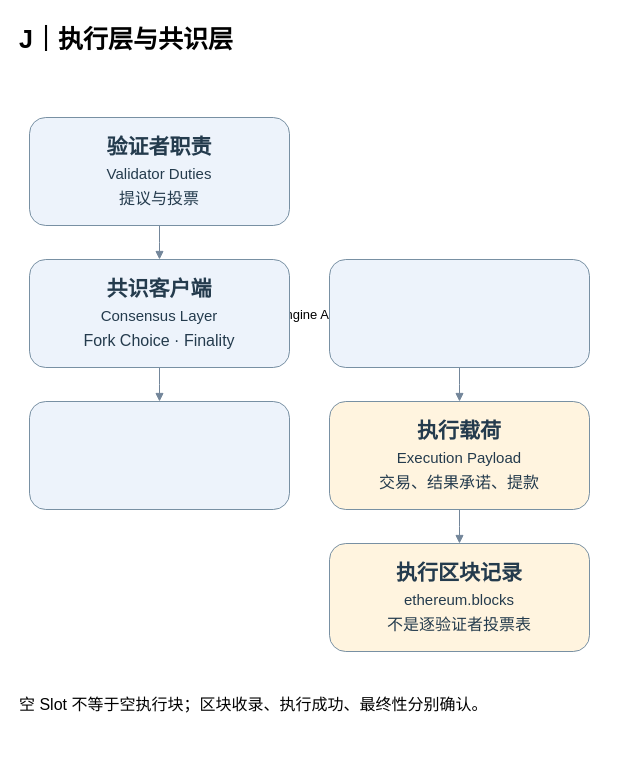
This 618x775 diagram has some shape labels left out. The shapes that lost their labels are listed below. From the top down, each one's centre as x and y in pixels, then its label:
At point 459,313: "执行客户端 Execution Layer 执行 EVM 与维护状态".
At point 159,455: "共识时间位置 Slot / Epoch 12 秒 · 32 Slots".
